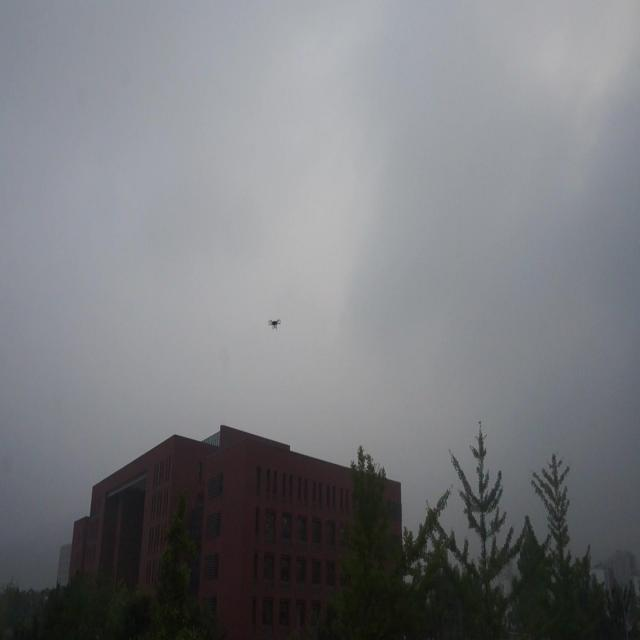UAV: (268, 319, 281, 330)
